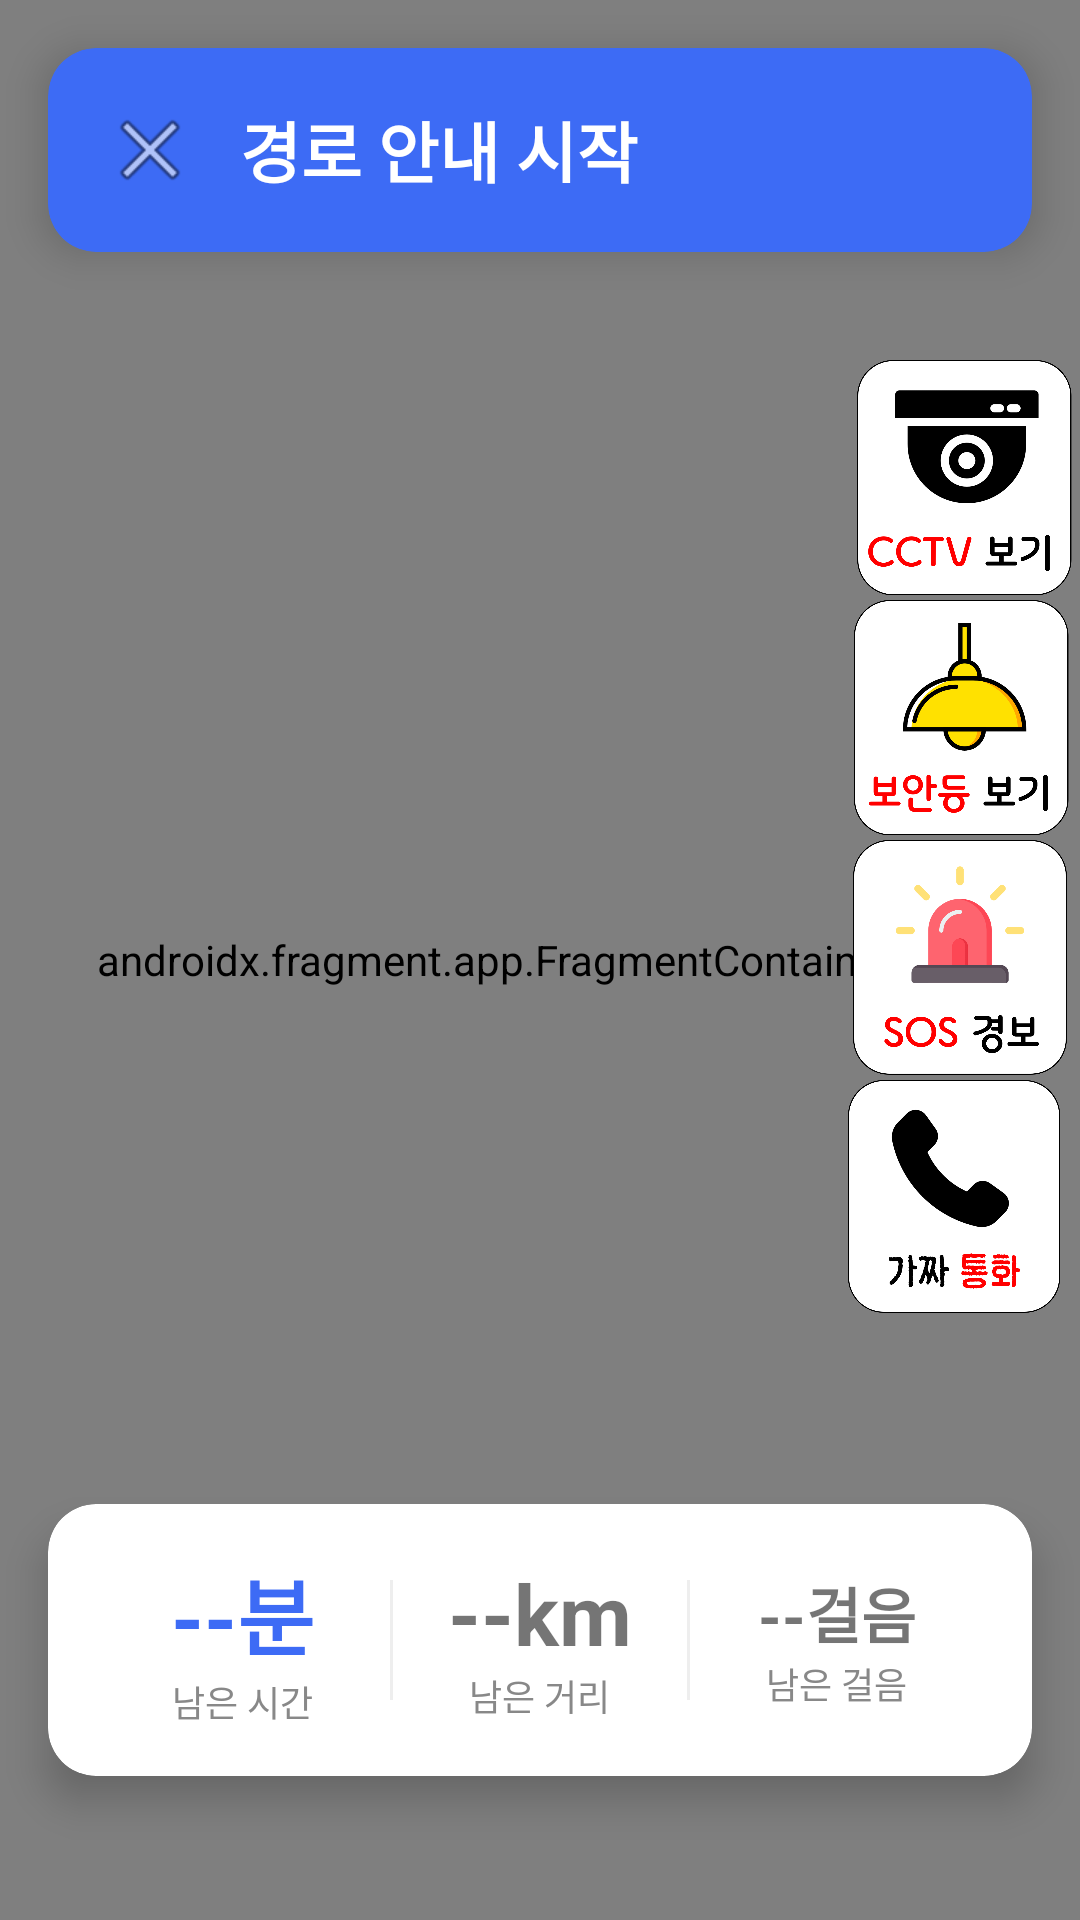

Icons on this 1080x1920 Android screen, each with the point to tap as point (x, y):
close clear cancel: point (150, 150)
is siren on: point (953, 957)
